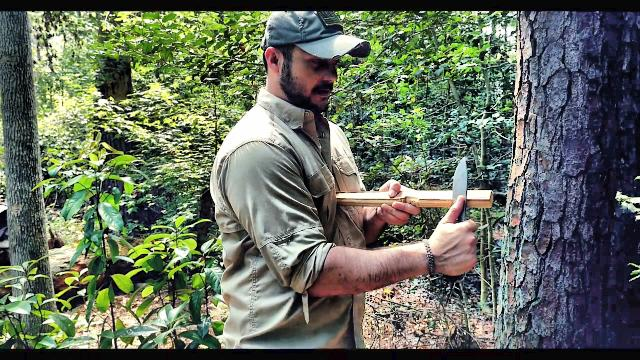knife: (438, 154, 478, 258)
